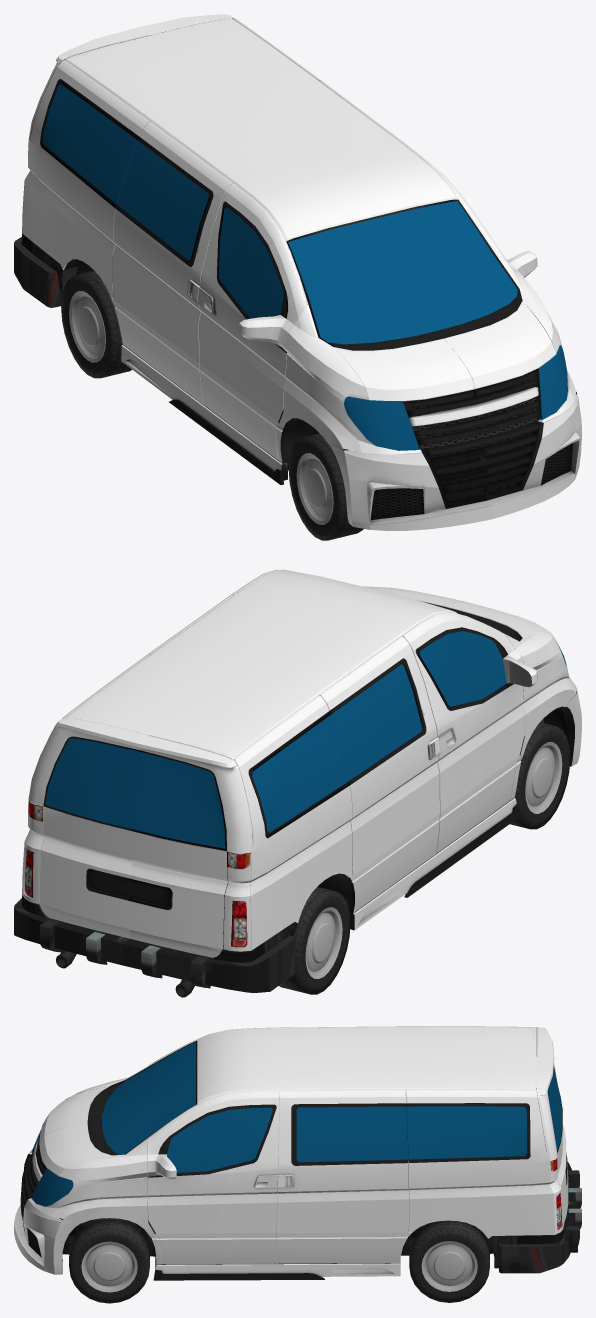
The model's file is Car21.fbx.
3 views of the same model, one above another, from view 1: azimuth 30°, elevation 25°; view 2: azimuth 150°, elevation 25°; view 3: azimuth 270°, elevation 25° (orthographic). The views are drawn at different scales.
Visible parts, largest first — view 1: Roof, Body, Front_Glass_, BumperF, DC3_Van_2_Door_MR, DC3_Van_2_Door_FR, Hood, DC3_Van_2_Glass_BR, DC3_Van_2_Glass_MR, WingBack, DC3_Van_2_Glass_FR, DC3_Van_2_Sidepanel_L_2__1_ (+10 smaller); view 2: Roof, Trunk, DC3_Van_2_Door_MR, Body, DC3_Van_2_Door_FR, Back_Glass_, BumperB, DC3_Van_2_Glass_BR, DC3_Van_2_Glass_MR, WingBack, DC3_Van_2_Glass_FR, DC3_Van_2_Sidepanel_L_2__1_ (+8 smaller); view 3: Roof, DC3_Van_2_Door_MR_1, Body, DC3_Van_2_Door_FR_1, WingBack_1, DC3_Van_2_Glass_BR_1, Front_Glass_, DC3_Van_2_Glass_MR_1, DC3_Van_2_Glass_FR_1, DC3_Van_2_Sidepanel_L_2, BumperB, Hood (+10 smaller).
Boxes of the visible parts, left/top/right/bottom form: Roof: left=65, top=18, right=458, bottom=241; Body: left=28, top=18, right=576, bottom=470; Front_Glass_: left=288, top=201, right=517, bottom=344; BumperF: left=330, top=393, right=581, bottom=530; DC3_Van_2_Door_MR: left=111, top=121, right=233, bottom=405; DC3_Van_2_Door_FR: left=197, top=183, right=306, bottom=459; Hood: left=333, top=301, right=555, bottom=401; DC3_Van_2_Glass_BR: left=42, top=84, right=137, bottom=204; DC3_Van_2_Glass_MR: left=117, top=141, right=208, bottom=260; WingBack: left=22, top=171, right=115, bottom=298; DC3_Van_2_Glass_FR: left=218, top=207, right=283, bottom=318; DC3_Van_2_Sidepanel_L_2__1_: left=121, top=345, right=287, bottom=484; Roof: left=66, top=569, right=457, bottom=759; Trunk: left=28, top=718, right=252, bottom=957; DC3_Van_2_Door_MR: left=319, top=636, right=440, bottom=913; Body: left=22, top=602, right=576, bottom=951; DC3_Van_2_Door_FR: left=402, top=612, right=525, bottom=853; Back_Glass_: left=45, top=738, right=225, bottom=848; BumperB: left=14, top=895, right=297, bottom=997; DC3_Van_2_Glass_BR: left=252, top=715, right=348, bottom=832; DC3_Van_2_Glass_MR: left=331, top=664, right=421, bottom=780; WingBack: left=250, top=821, right=352, bottom=950; DC3_Van_2_Glass_FR: left=419, top=631, right=506, bottom=706; DC3_Van_2_Sidepanel_L_2__1_: left=349, top=798, right=520, bottom=930; Roof: left=196, top=1027, right=536, bottom=1104; DC3_Van_2_Door_MR_1: left=276, top=1089, right=412, bottom=1263; Body: left=27, top=1026, right=563, bottom=1267; DC3_Van_2_Door_FR_1: left=147, top=1090, right=279, bottom=1264; WingBack_1: left=409, top=1184, right=554, bottom=1238; DC3_Van_2_Glass_BR_1: left=406, top=1106, right=527, bottom=1159; Front_Glass_: left=102, top=1042, right=195, bottom=1154; DC3_Van_2_Glass_MR_1: left=296, top=1106, right=408, bottom=1162; DC3_Van_2_Glass_FR_1: left=167, top=1107, right=272, bottom=1172; DC3_Van_2_Sidepanel_L_2: left=153, top=1263, right=400, bottom=1280; BumperB: left=488, top=1162, right=581, bottom=1273; Hood: left=39, top=1085, right=111, bottom=1175.
Size of the model in its own units: 317 by 277 by 695.
